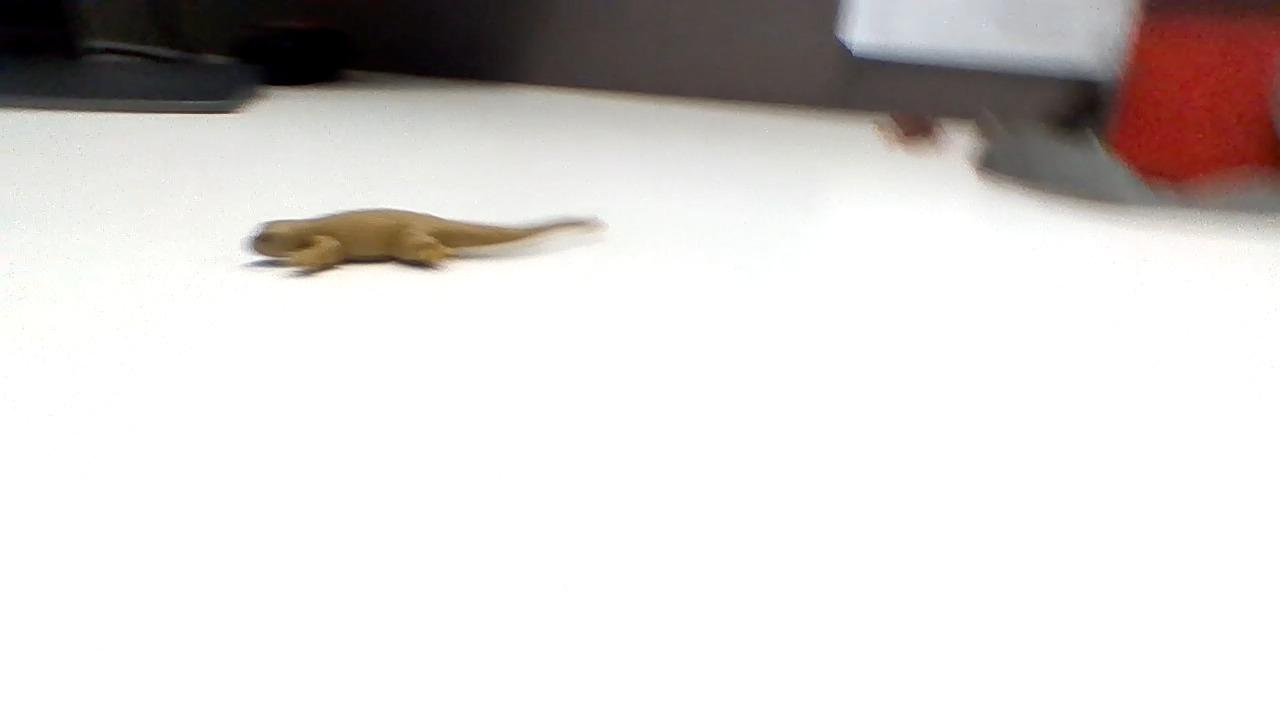lizard: (250, 200, 606, 274)
